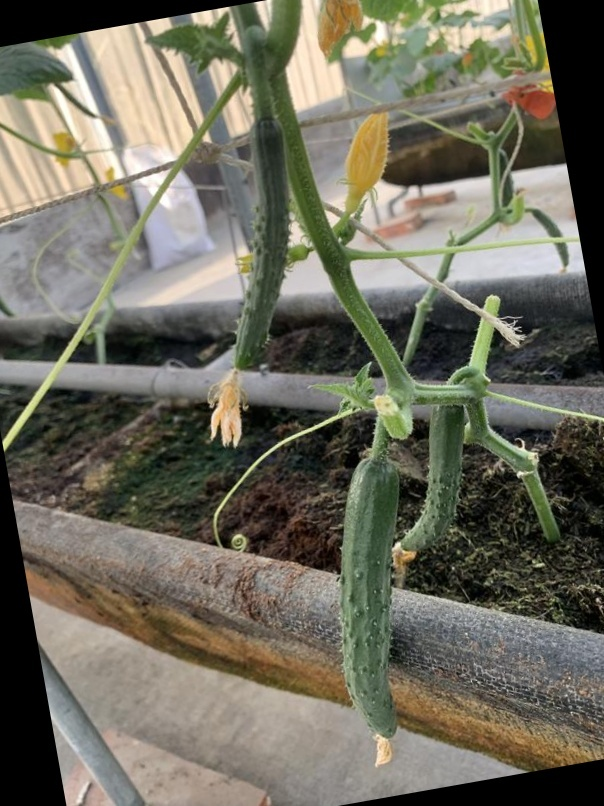growth: (323, 447, 413, 759), (218, 109, 296, 400)
